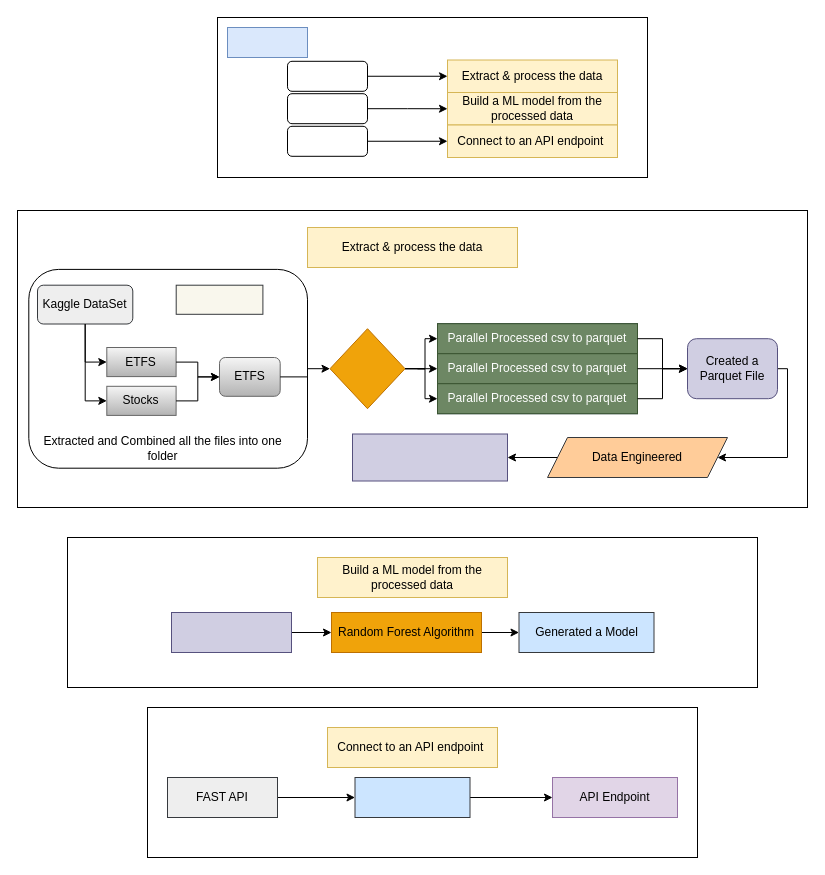
Some shapes in this 825 by 875 pixel diagram are drawn without their labels. The shapes that lost their labels are listed below. From the top down, each one's box as (x1, y1, x2, y2) in pixels, then its label:
(226, 26, 308, 58): Docker
(286, 60, 368, 91): Script 1
(286, 93, 368, 124): Script 2
(286, 125, 368, 156): Script 3
(175, 284, 263, 314): Source Data
(329, 328, 405, 409): Spark
(352, 433, 508, 481): Updated the Parquet File
(170, 612, 292, 652): Output.parquet
(354, 776, 470, 818): Load the Model
